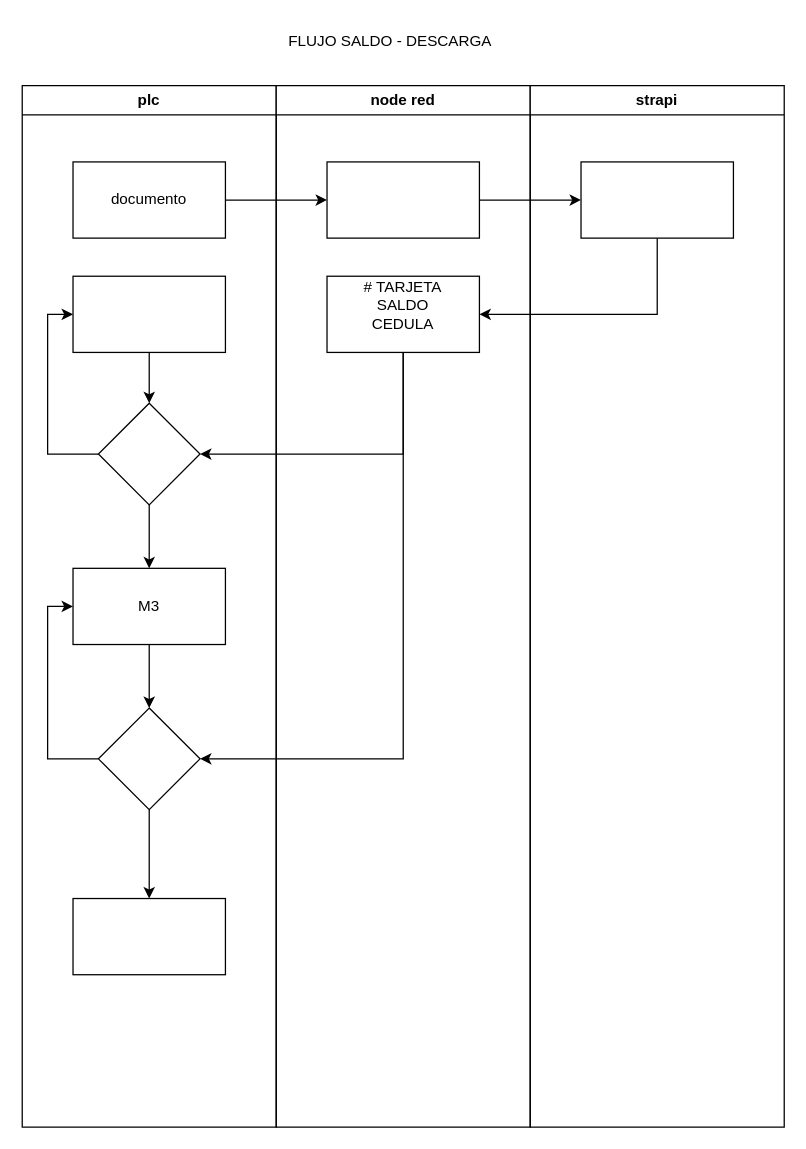
Image size: 806x1149. Some labels were removed from this diagram. Each missing label, with the box of its shape:
api rest findonedocumento TRANSACION: (326, 161, 479, 238)
status 200 400: (580, 161, 733, 238)
TARJETA: (72, 275, 225, 352)
